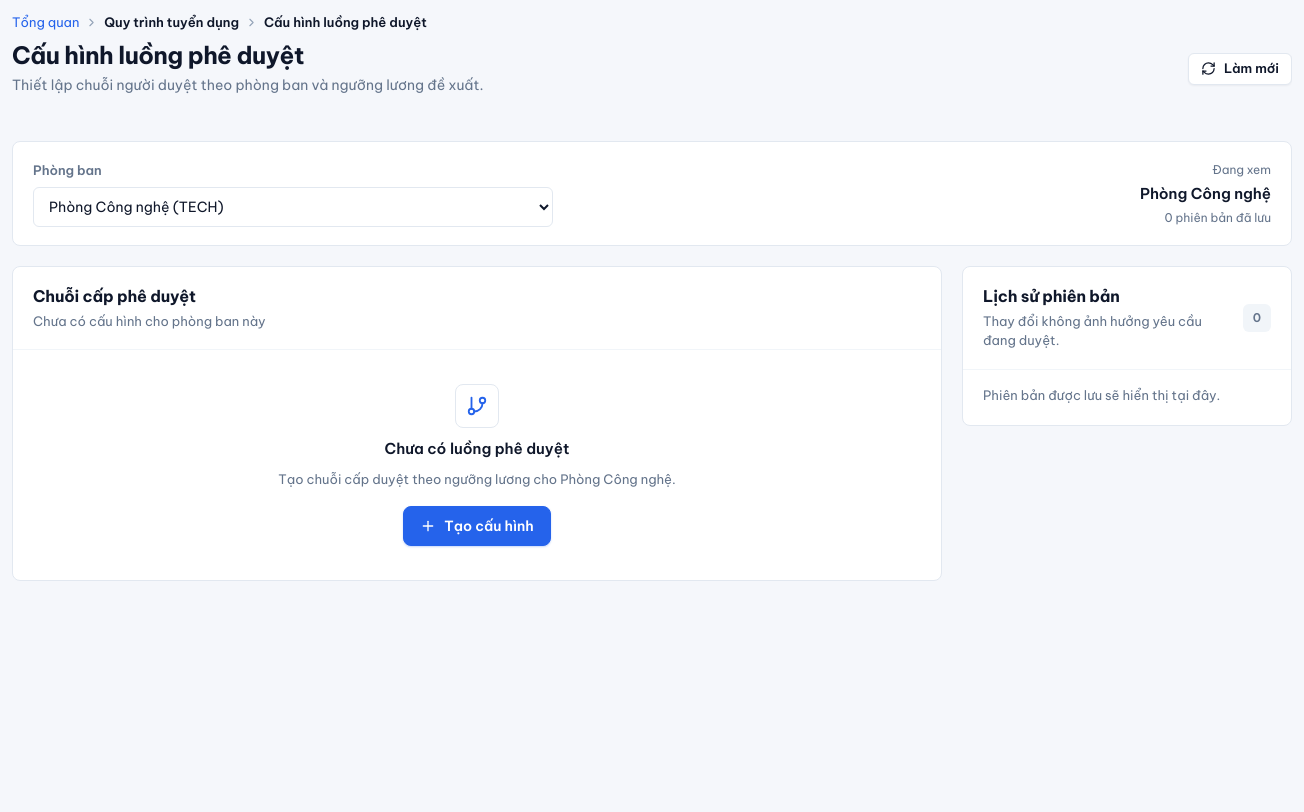
Test case: ApprovalConfigurationPage (S3-01) › creates the first approval configuration for a department with no active version
Click the button "Tạo cấu hình" at (477, 526), box [403,506,551,546]
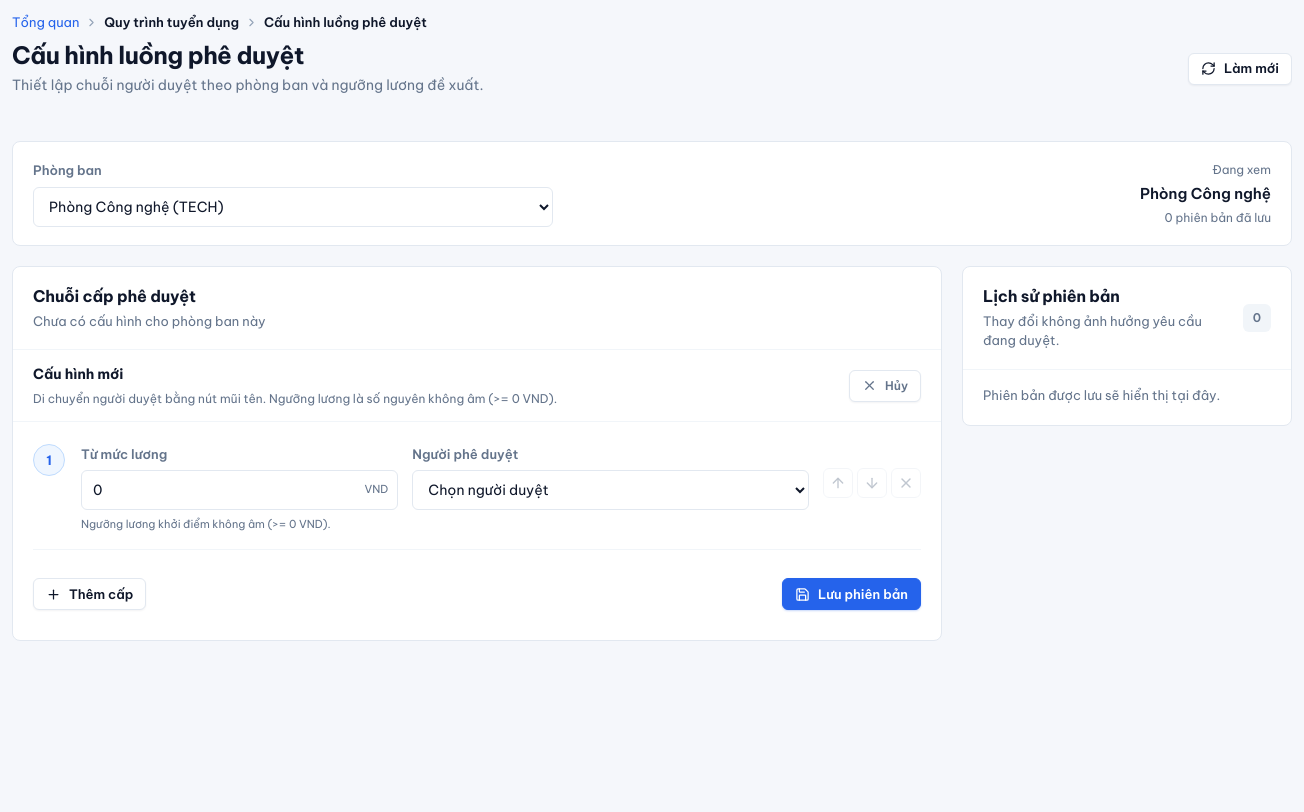
Select "Nguyễn An · APPROVER" in the dropdown labelled "Người phê duyệt" at (611, 490), box [412,470,809,510]
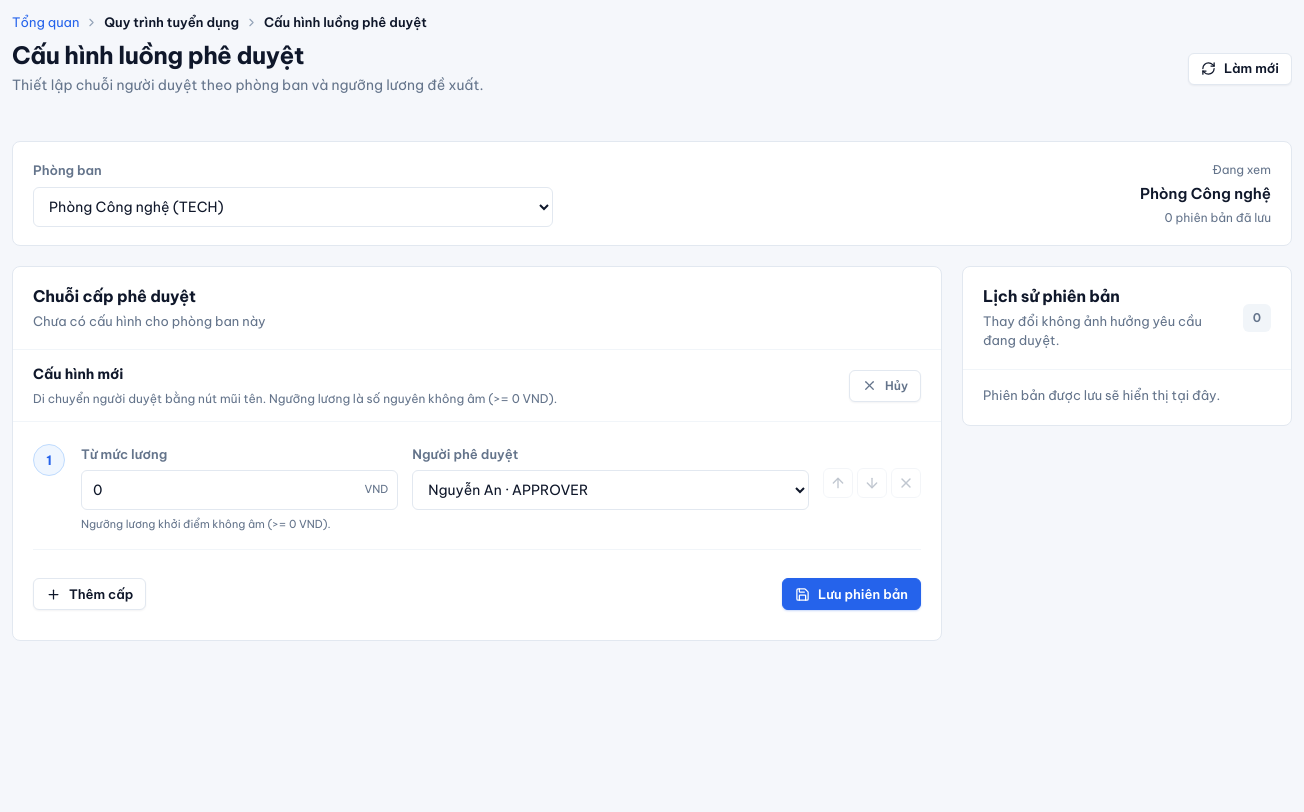
Click the button "Lưu phiên bản" at (852, 594), box [782,578,921,610]
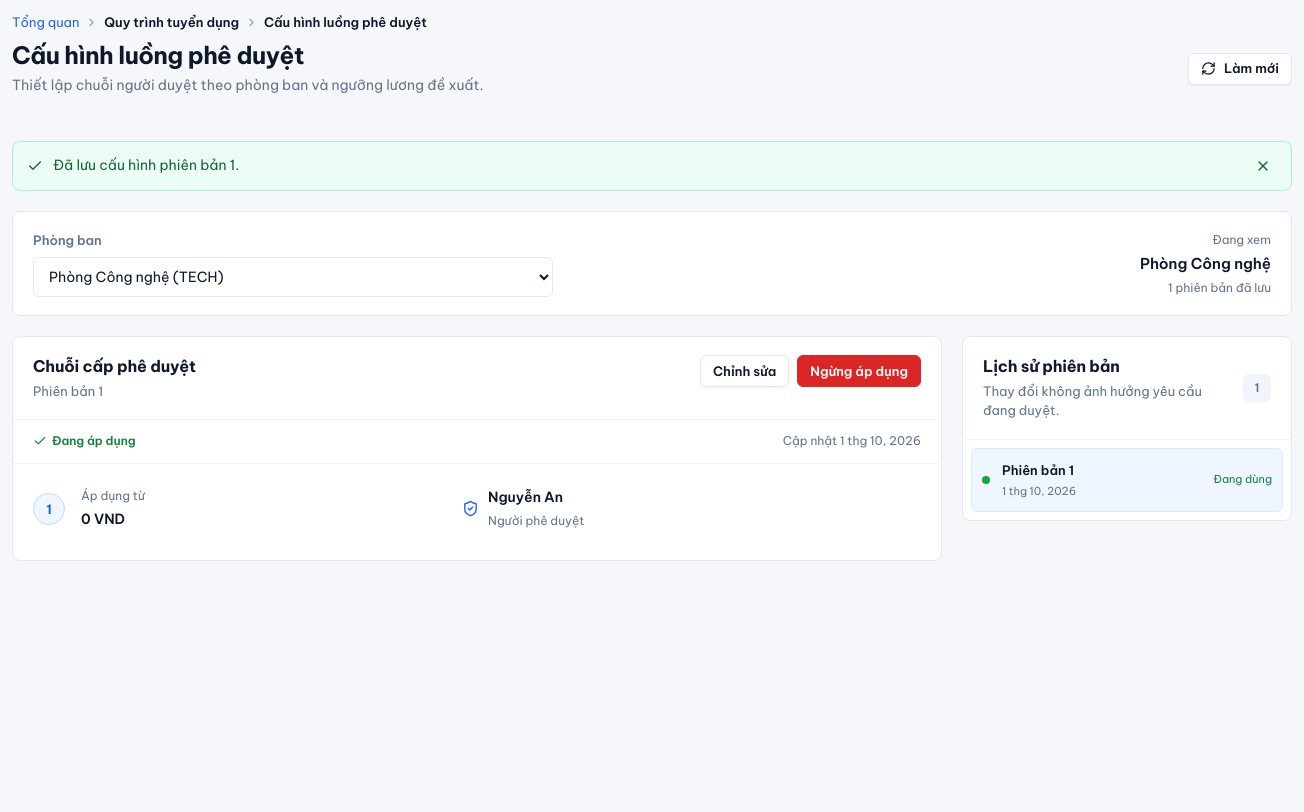
Now the text "Đã lưu cấu hình phiên bản 1." is shown, box [53,156,239,174]
